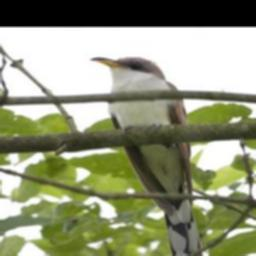Cuckoo: (89, 55, 204, 256)
